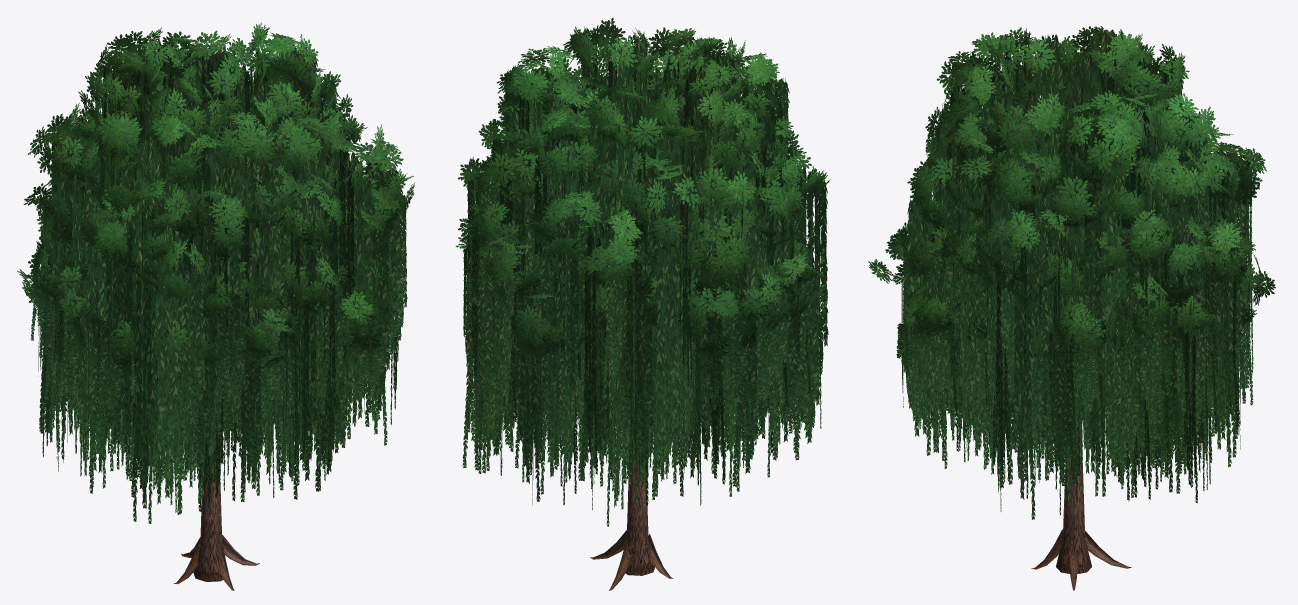
The model's file is mm6_deco_tree09.glb.
3 renders of one model, left to right at view 1: azimuth 30°, elevation 25°; view 2: azimuth 150°, elevation 25°; view 3: azimuth 270°, elevation 25°, orthographic. The views are drawn at different scales.
Parts seen in each view (by area): view 1: Tree; view 2: Tree; view 3: Tree.
Boxes of the visible parts, left/top/right/bottom form: Tree: left=17, top=22, right=414, bottom=590; Tree: left=455, top=18, right=830, bottom=590; Tree: left=868, top=26, right=1275, bottom=590.
Bounding box in the file's own units: 4.37 × 6.37 × 4.69.
3 materials, 3 textured.
